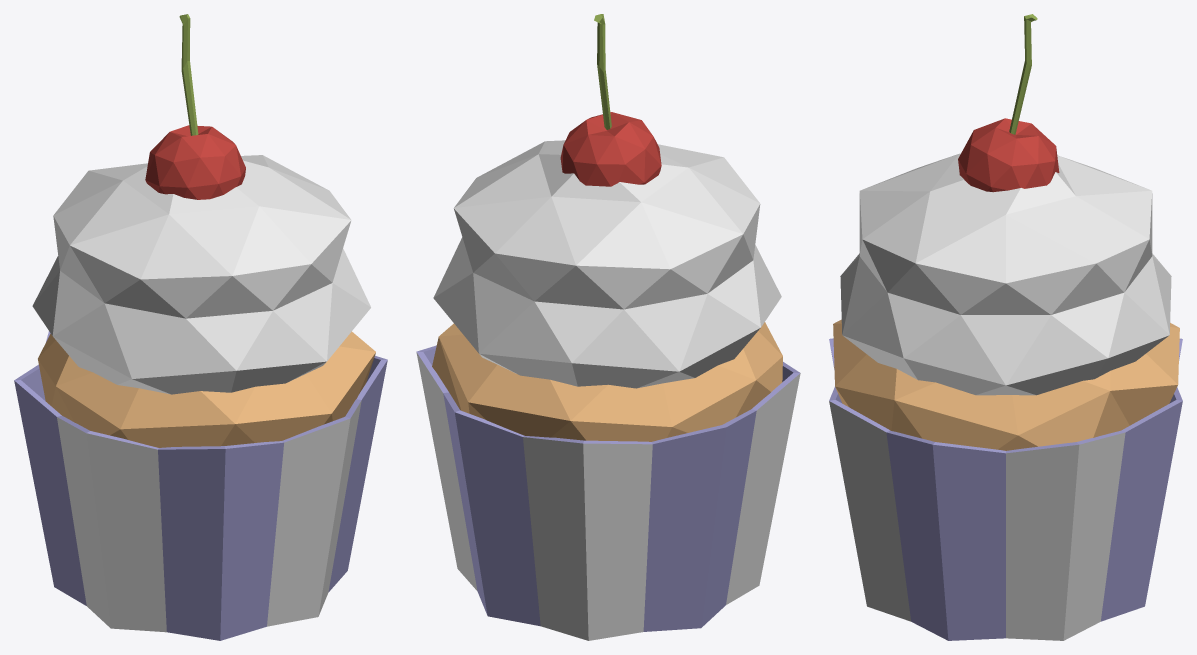
File: Cupcake_01.fbx
3 renders of one model, left to right at view 1: azimuth 30°, elevation 25°; view 2: azimuth 150°, elevation 25°; view 3: azimuth 270°, elevation 25°, orthographic. The views are drawn at different scales.
Visible parts, largest first — view 1: Cupcake_01; view 2: Cupcake_01; view 3: Cupcake_01.
Boxes of the visible parts, box(x1,y1,x2,y2) form: Cupcake_01: box(14, 14, 387, 640); Cupcake_01: box(416, 14, 800, 640); Cupcake_01: box(829, 14, 1182, 640).
Bounding box in the file's own units: 9.09 × 16.03 × 9.09.
